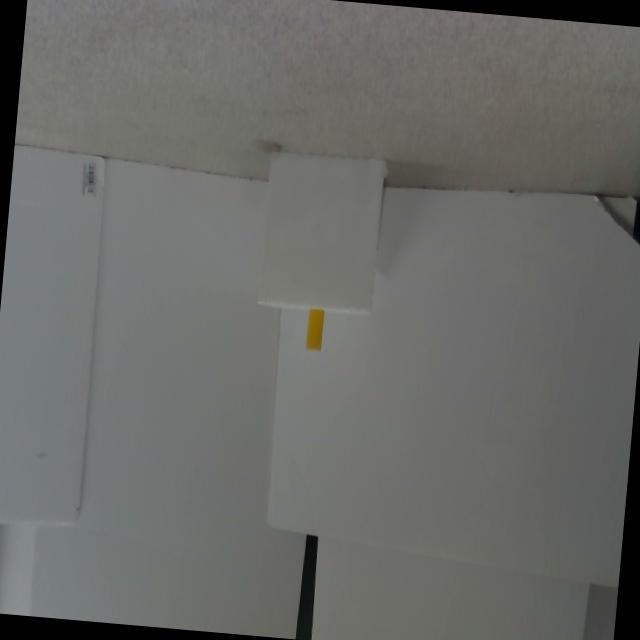yellow_cylinder: (305, 308, 324, 350)
